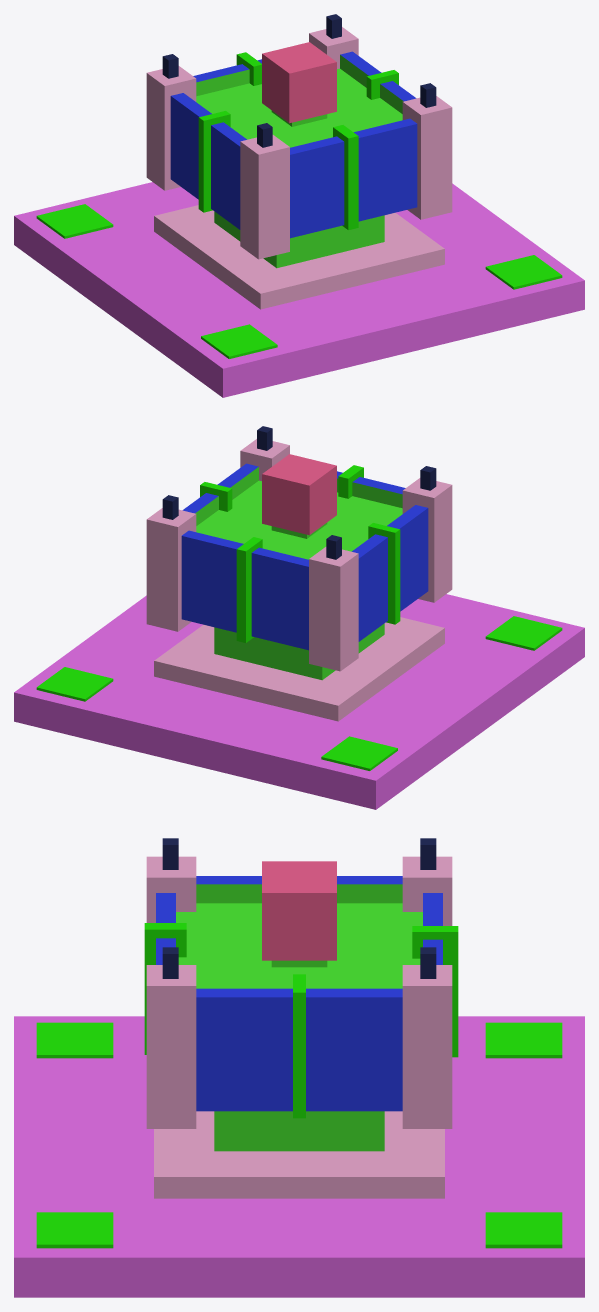
File: rapidFire_Lv3.fbx
The picture shows the model from 3 angles, top to bottom: view 1: azimuth 30°, elevation 25°; view 2: azimuth 150°, elevation 25°; view 3: azimuth 270°, elevation 25°; orthographic projection. The views are drawn at different scales.
Parts seen in each view (by area): view 1: Cube.005; view 2: Cube.005; view 3: Cube.005.
Boxes of the visible parts, x1,y1,x2,y2 form: Cube.005: [14, 14, 584, 397]; Cube.005: [14, 426, 584, 809]; Cube.005: [14, 838, 584, 1297].
Bounding box in the file's own units: 268 × 155 × 268.
